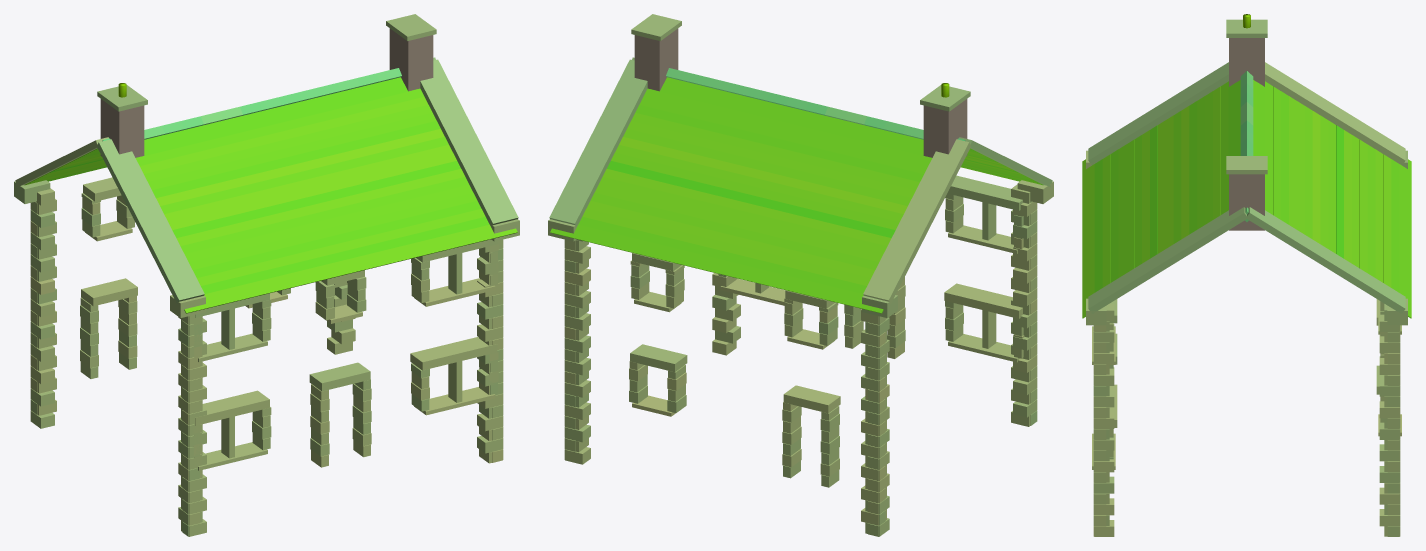
File: SM_Bld_189_Stone.glb
The picture shows the model from 3 angles, left to right: view 1: azimuth 30°, elevation 25°; view 2: azimuth 150°, elevation 25°; view 3: azimuth 270°, elevation 25°; orthographic projection. The views are drawn at different scales.
Parts seen in each view (by area): view 1: SM_Bld_189_Stone; view 2: SM_Bld_189_Stone; view 3: SM_Bld_189_Stone.
Boxes of the visible parts, bbox=[...] form: SM_Bld_189_Stone: bbox=[14, 14, 519, 536]; SM_Bld_189_Stone: bbox=[548, 14, 1053, 536]; SM_Bld_189_Stone: bbox=[1082, 14, 1411, 536].
Bounding box in the file's own units: 9.55 × 10.53 × 8.3.
